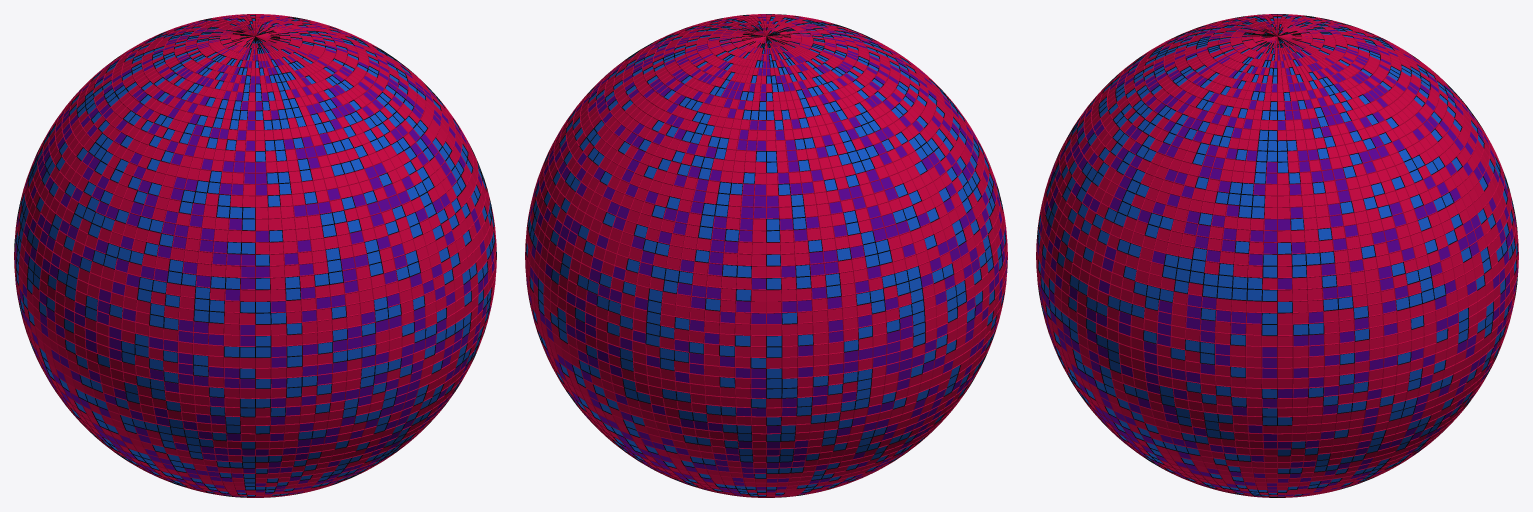
File: xxx.fbx
The picture shows the model from 3 angles, left to right: view 1: azimuth 30°, elevation 25°; view 2: azimuth 150°, elevation 25°; view 3: azimuth 270°, elevation 25°; orthographic projection.
Parts seen in each view (by area): view 1: Sphere; view 2: Sphere; view 3: Sphere.
Boxes of the visible parts, x1=… form: Sphere: x1=14, y1=14, x2=496, y2=497; Sphere: x1=525, y1=14, x2=1007, y2=497; Sphere: x1=1036, y1=14, x2=1518, y2=497.
Size of the model in its own units: 200 by 200 by 200.
